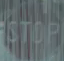Stop: (2, 2, 59, 50)
